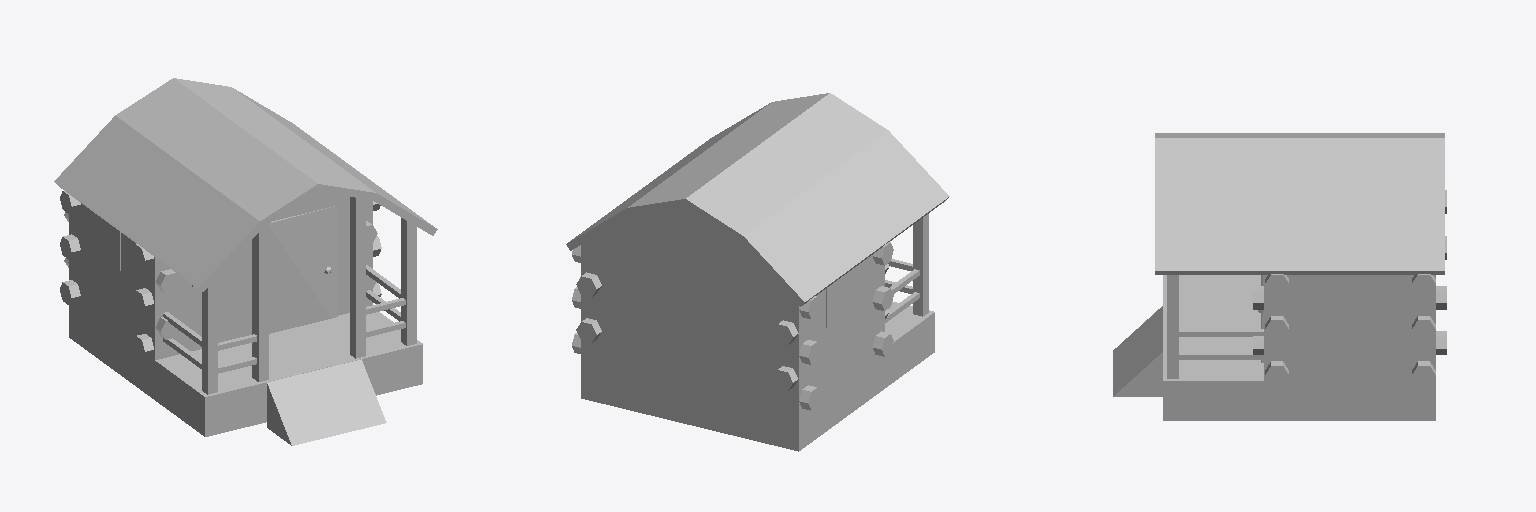
Rendered from hub_house.obj.
3 renders of one model, left to right at view 1: azimuth 30°, elevation 25°; view 2: azimuth 150°, elevation 25°; view 3: azimuth 270°, elevation 25°, orthographic.
Parts seen in each view (by area): view 1: hub_house; view 2: hub_house; view 3: hub_house.
Part boxes in pixels (left/top/right/bottom): hub_house: left=54, top=78, right=437, bottom=445; hub_house: left=566, top=93, right=949, bottom=451; hub_house: left=1113, top=133, right=1446, bottom=420.
Size of the model in its own units: 10.96 by 10.31 by 13.25.